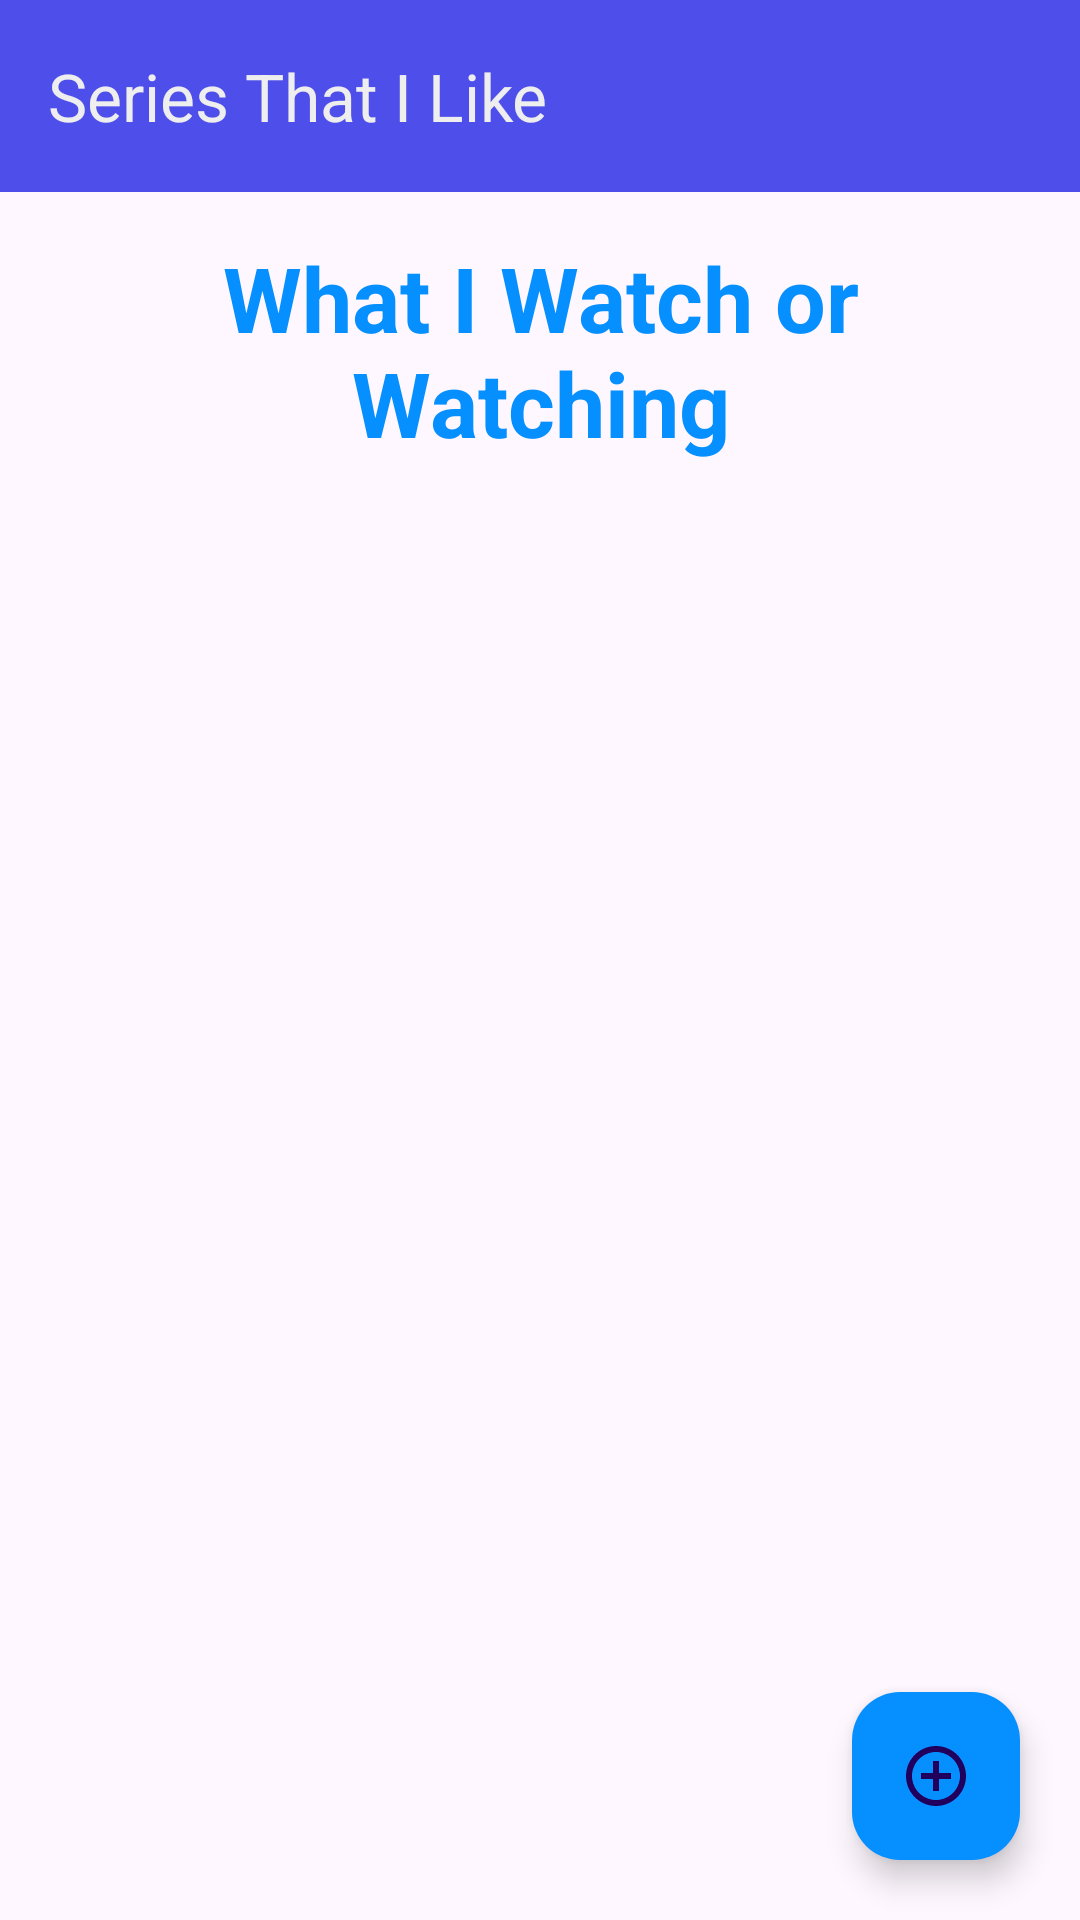

Icon click points for this 1080 x 1920 phone screenshot, format (x,y):
add episodes circle: (936,1776)
